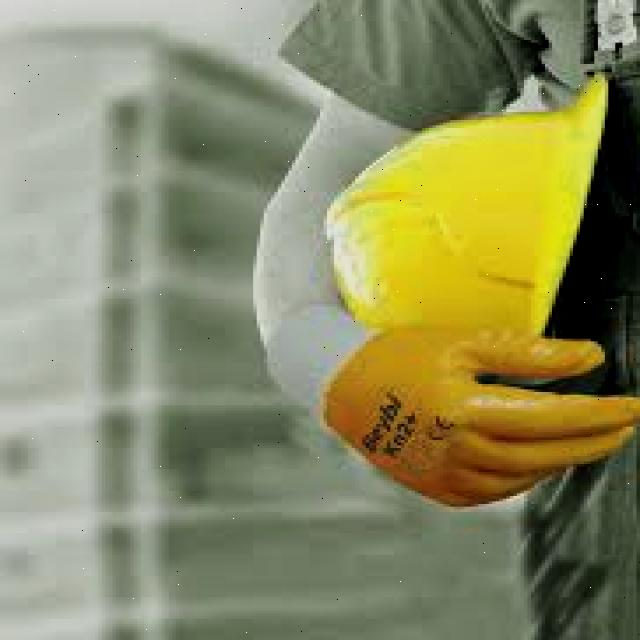Gloves: (327, 329, 640, 505)
Hardhat: (327, 76, 608, 336)
Overall Suit: (281, 0, 640, 395), (530, 426, 640, 640)
